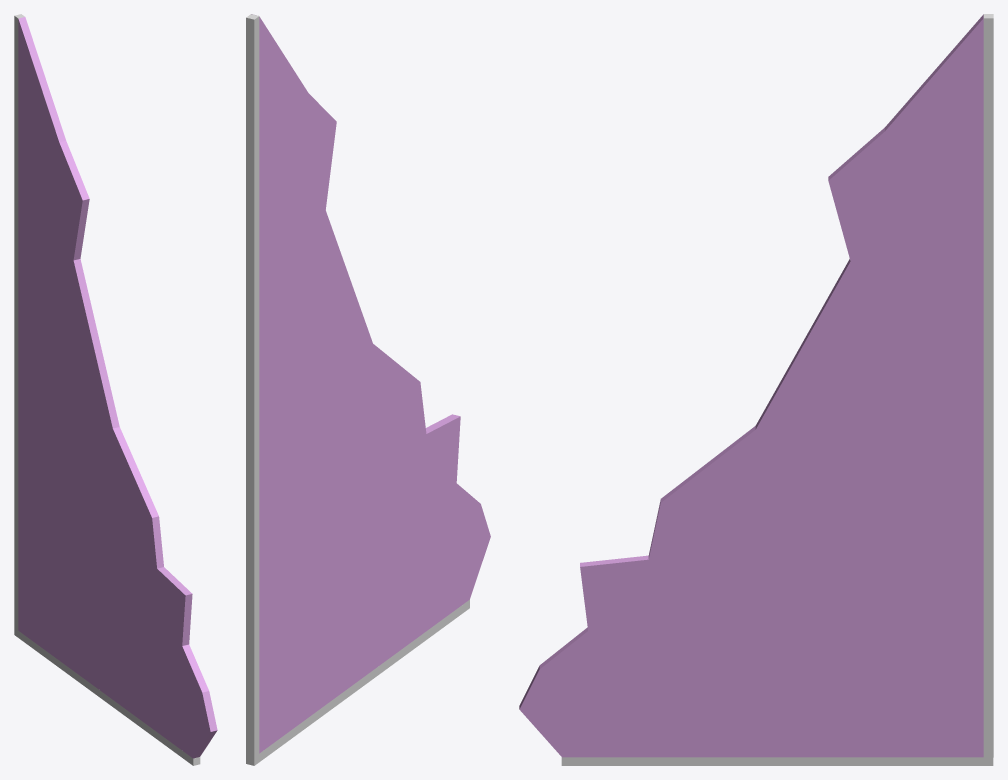
The model's file is Spiegel.FBX.
3 views of the same model, side by side, from view 1: azimuth 30°, elevation 25°; view 2: azimuth 150°, elevation 25°; view 3: azimuth 270°, elevation 25° (orthographic). The views are drawn at different scales.
Parts seen in each view (by area): view 1: Line001, Box001, Box002; view 2: Line001, Box001, Box002; view 3: Line001, Box001, Box002.
Boxes of the visible parts, <box> form: Line001: <box>18,17,217,758</box>; Box001: <box>14,14,24,630</box>; Box002: <box>14,628,200,765</box>; Line001: <box>251,14,490,753</box>; Box001: <box>246,14,259,757</box>; Box002: <box>246,599,469,765</box>; Line001: <box>519,14,983,757</box>; Box001: <box>983,14,993,757</box>; Box002: <box>561,757,993,765</box>.
Size of the model in its own units: 1 by 85.08 by 48.87.
